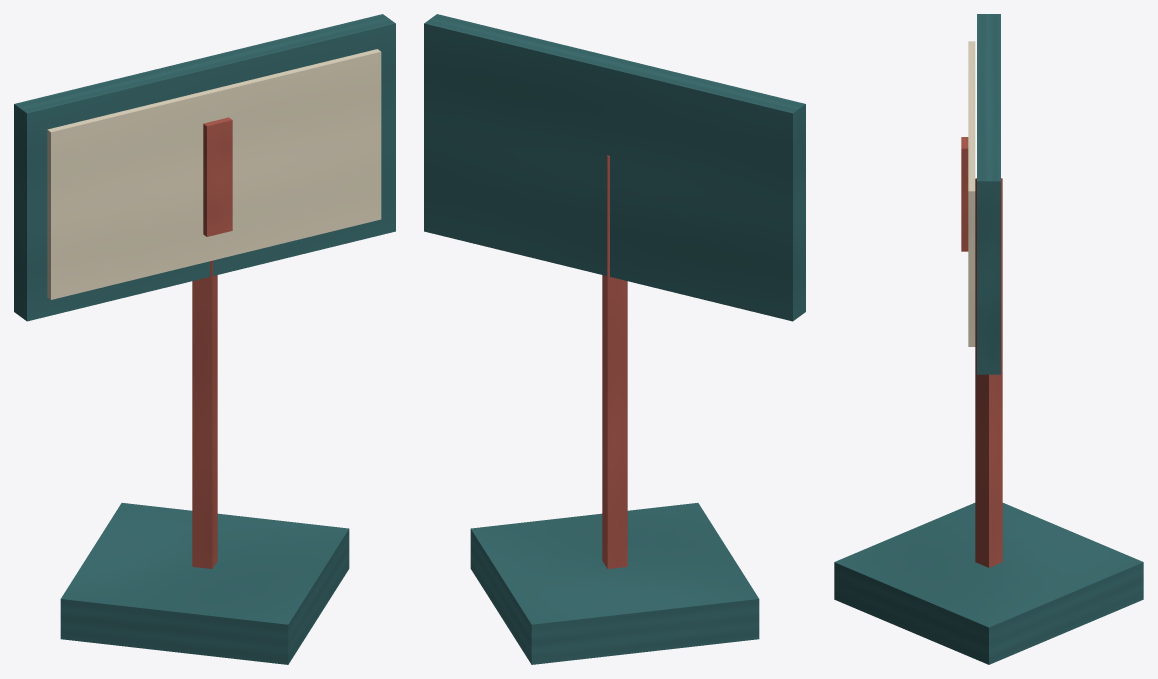
File: atlas100-s031-a11.lod2.glb
3 views of the same model, side by side, from view 1: azimuth 30°, elevation 25°; view 2: azimuth 150°, elevation 25°; view 3: azimuth 270°, elevation 25° (orthographic). The views are drawn at different scales.
Parts seen in each view (by area): view 1: atlas100-s031-a11:part-003, atlas100-s031-a11:part-000, atlas100-s031-a11:part-002, atlas100-s031-a11:part-001, atlas100-s031-a11:part-005; view 2: atlas100-s031-a11:part-002, atlas100-s031-a11:part-000, atlas100-s031-a11:part-001; view 3: atlas100-s031-a11:part-000, atlas100-s031-a11:part-002, atlas100-s031-a11:part-001, atlas100-s031-a11:part-003, atlas100-s031-a11:part-005.
Part boxes in pixels (box(x1,y1,x2,y2)): atlas100-s031-a11:part-003: box(47, 49, 381, 299); atlas100-s031-a11:part-000: box(60, 503, 349, 664); atlas100-s031-a11:part-002: box(14, 14, 395, 321); atlas100-s031-a11:part-001: box(192, 260, 217, 568); atlas100-s031-a11:part-005: box(203, 117, 232, 236); atlas100-s031-a11:part-002: box(424, 14, 805, 321); atlas100-s031-a11:part-000: box(470, 503, 759, 664); atlas100-s031-a11:part-001: box(602, 155, 627, 568); atlas100-s031-a11:part-000: box(834, 503, 1143, 664); atlas100-s031-a11:part-002: box(977, 14, 1000, 374); atlas100-s031-a11:part-001: box(975, 178, 1002, 567); atlas100-s031-a11:part-003: box(968, 41, 975, 346); atlas100-s031-a11:part-005: box(961, 137, 968, 251).
Bounding box in the file's own units: 1.15 × 1.61 × 0.9.
Materials: 3 (3 with a texture image).
